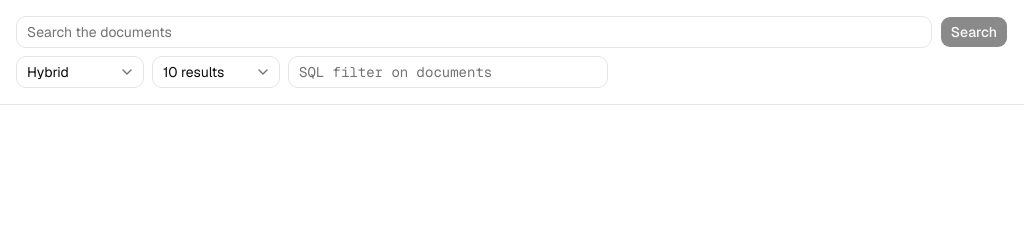
Test: SearchPanel › names the one available database rather than every configured one
The width and height of the screenshot is (1024, 232).
Type "tea" into the field with placeholder "Search the documents". click: [474, 32]
box: x1=16 y1=16 x2=932 y2=48
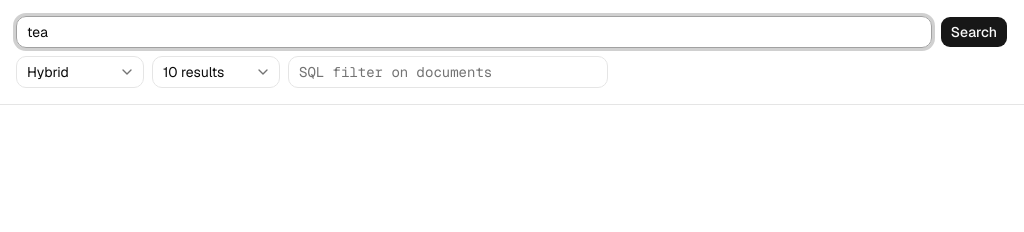
Click the button "Search". click: [974, 32]
box: x1=940 y1=16 x2=1008 y2=48
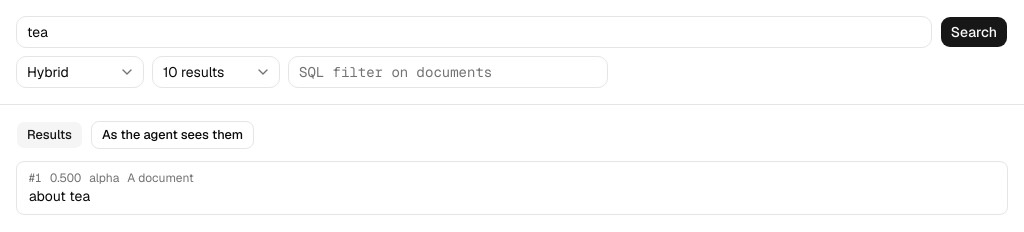
Now the text "about tea" is shown, box x1=29 y1=187 x2=90 y2=205
